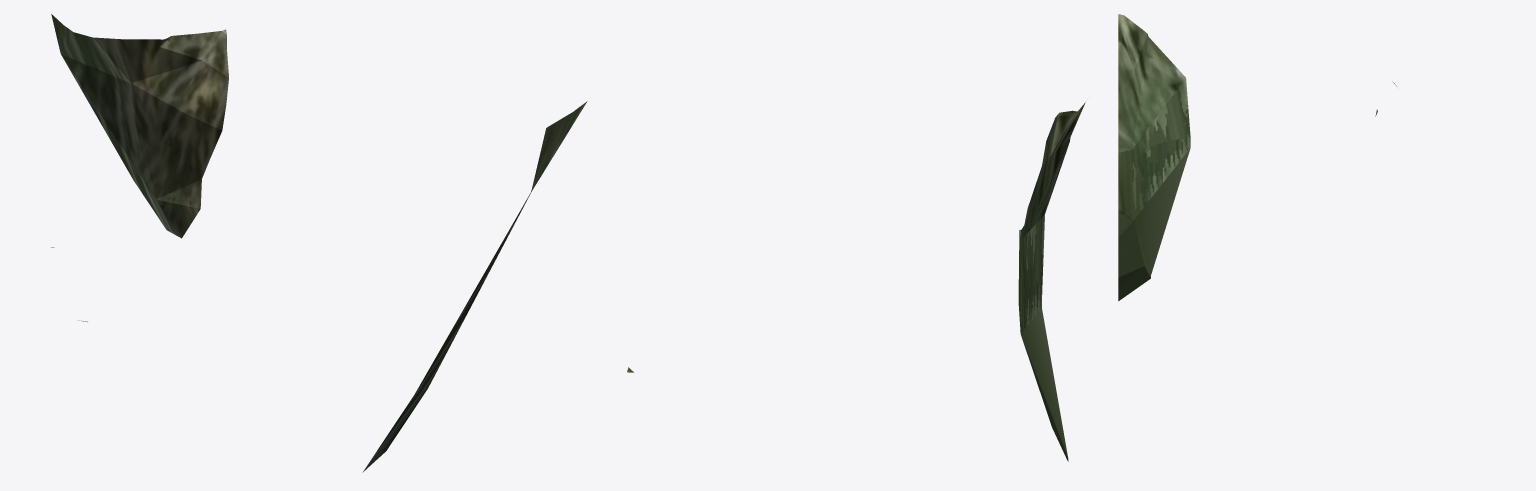
The picture shows the model from 3 angles, left to right: view 1: azimuth 30°, elevation 25°; view 2: azimuth 150°, elevation 25°; view 3: azimuth 270°, elevation 25°; orthographic projection. The views are drawn at different scales.
Size of the model in its own units: 2.95 by 2.95 by 2.95.
2 materials, 2 textured.
